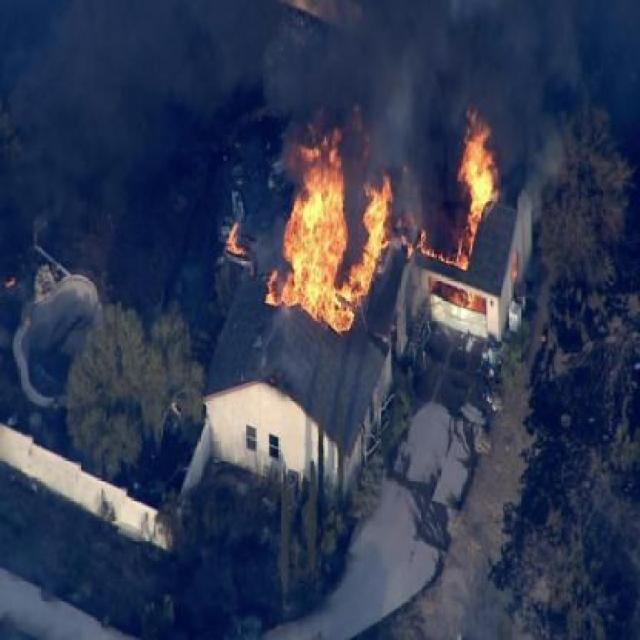Fire: (266, 138, 356, 334), (454, 115, 499, 277), (339, 180, 393, 303), (228, 218, 242, 260), (420, 228, 434, 258), (438, 252, 453, 263), (406, 239, 414, 259)
